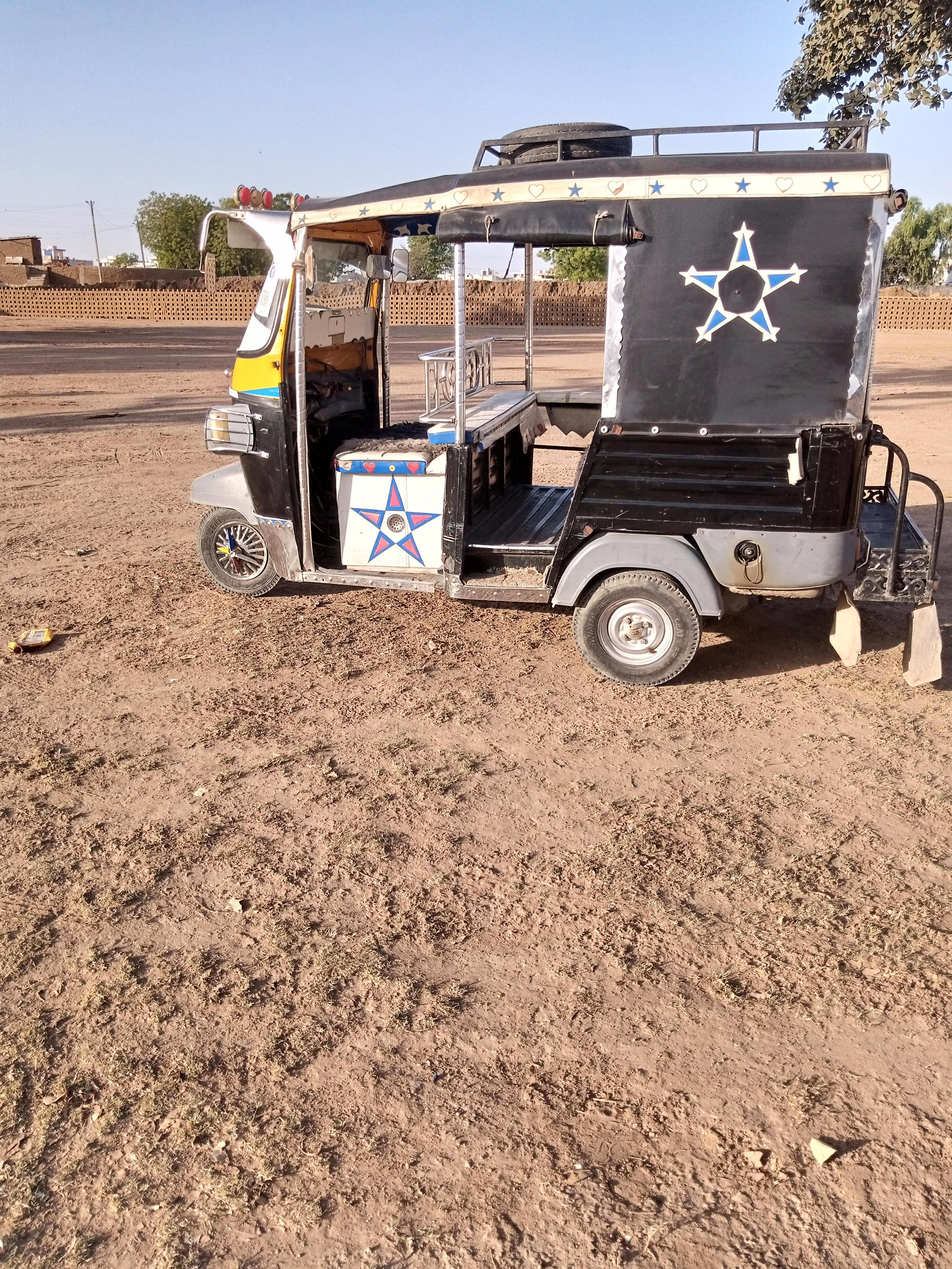non-ambulance: (177, 117, 952, 696)
